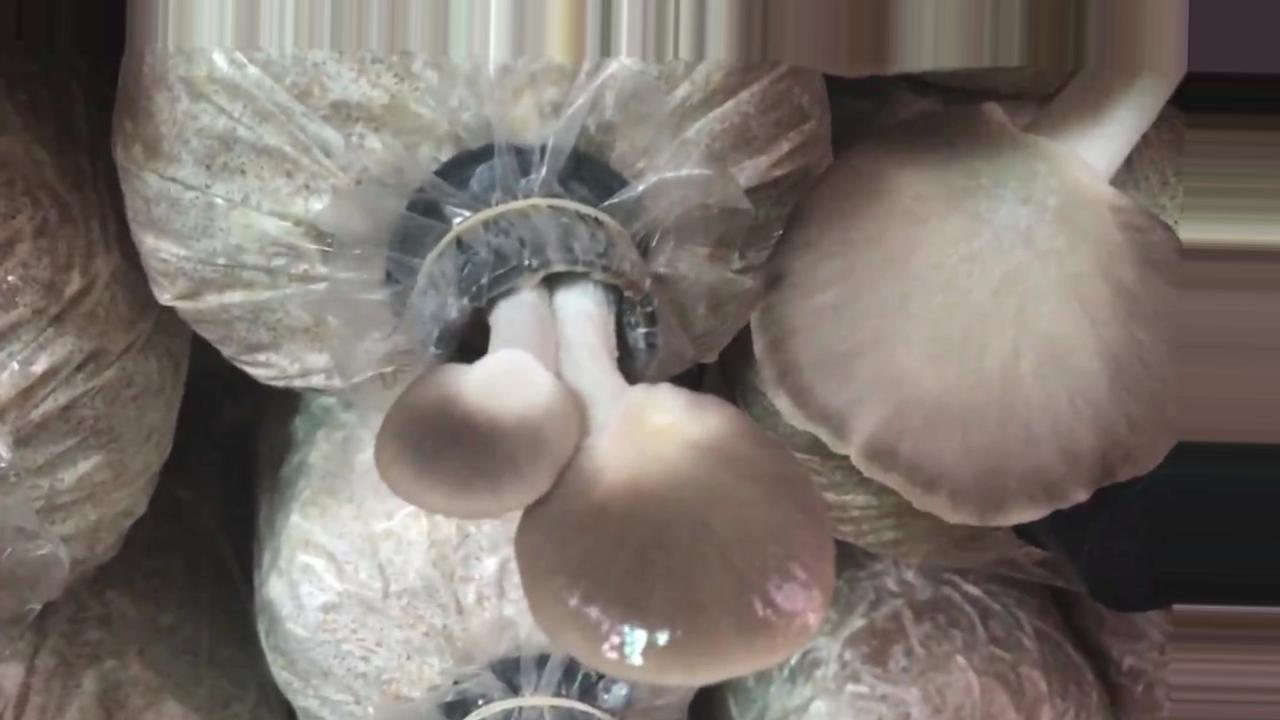nam: (373, 130, 838, 689), (748, 69, 1280, 530)
